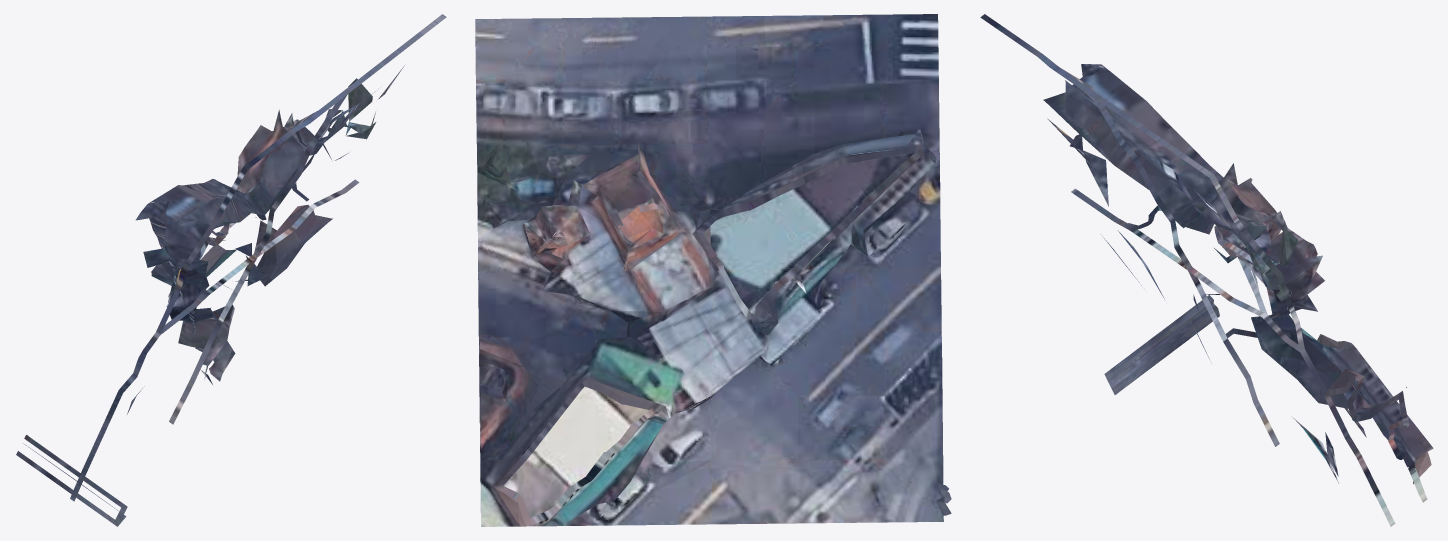
3 views of the same model, side by side, from view 1: azimuth 30°, elevation 25°; view 2: azimuth 150°, elevation 25°; view 3: azimuth 270°, elevation 25° (orthographic). The views are drawn at different scales.
Size of the model in its own units: 41.52 by 35.9 by 35.54.
2 materials, 2 textured.
